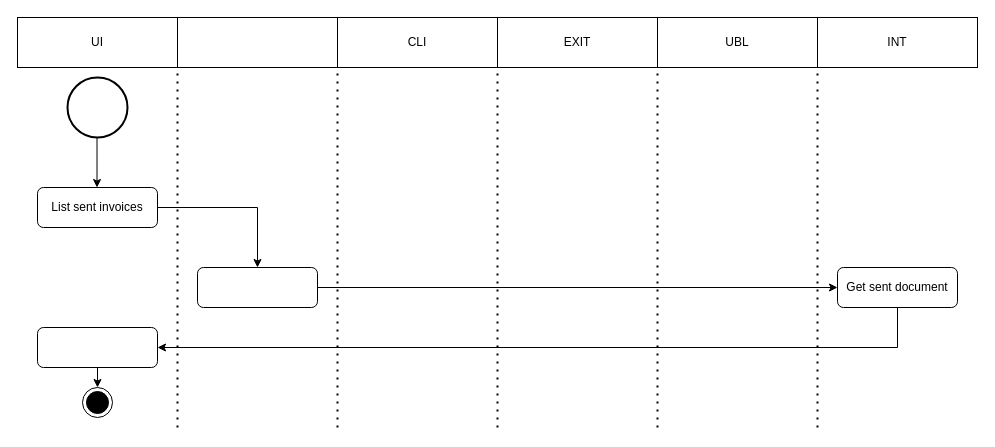
The diagram is 995 pixels wide and 447 high, and some of its shapes have lost their labels. Each missing label, with the box of its shape:
Display: (36, 326, 158, 368)
Get selected invoice: (196, 266, 318, 308)
HOST: (176, 16, 338, 68)
